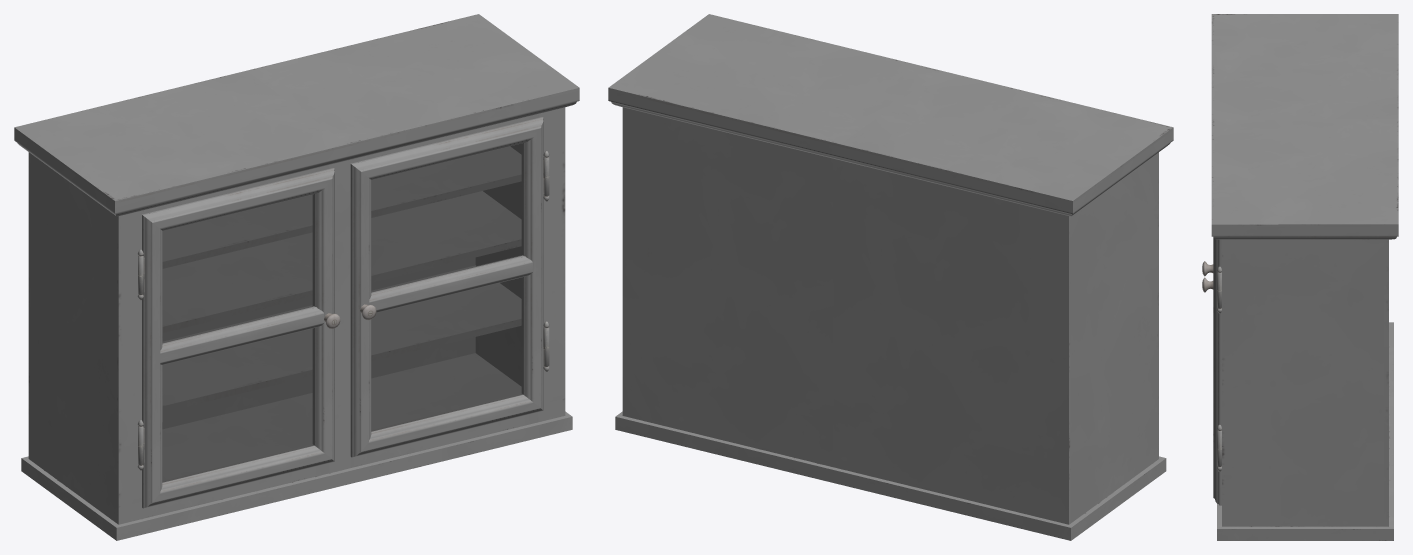
Rendered from kitchen_cupboard1.glb.
The picture shows the model from 3 angles, left to right: view 1: azimuth 30°, elevation 25°; view 2: azimuth 150°, elevation 25°; view 3: azimuth 270°, elevation 25°; orthographic projection. The views are drawn at different scales.
Visible parts, largest first — view 1: Cupboard_Kitchen_A_8; view 2: Cupboard_Kitchen_A_8; view 3: Cupboard_Kitchen_A_8.
Part boxes in pixels (x1,y1,x2,y2): Cupboard_Kitchen_A_8: (14,14,579,540); Cupboard_Kitchen_A_8: (608,14,1173,540); Cupboard_Kitchen_A_8: (1202,14,1398,540).
Size of the model in its own units: 1.61 by 1.14 by 0.6358.
Materials: 2 (1 with a texture image).
